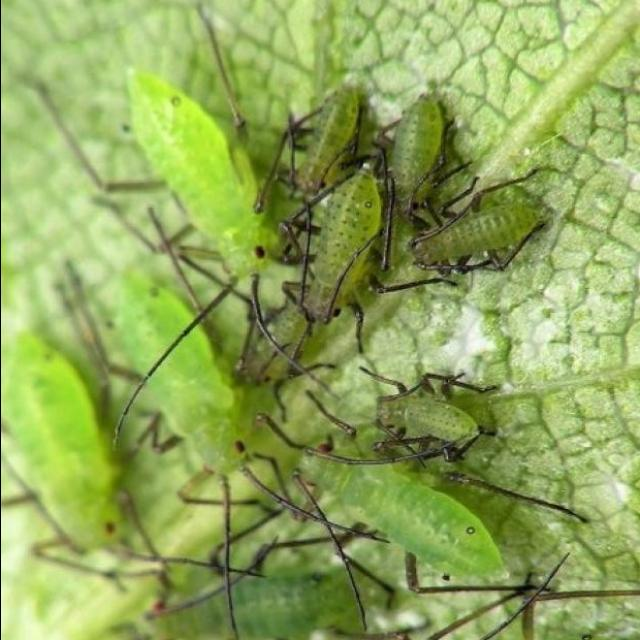Aphids: (0, 35, 596, 640)
